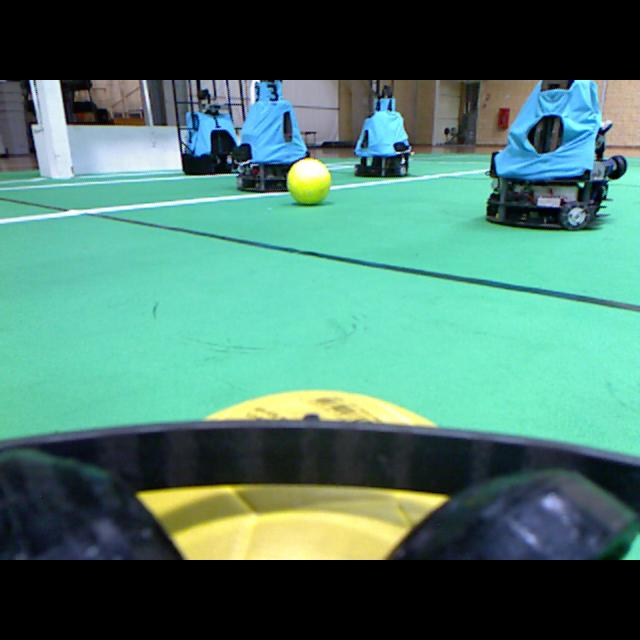ball: (139, 391, 448, 560), (287, 158, 330, 203)
goal: (35, 80, 72, 177)
